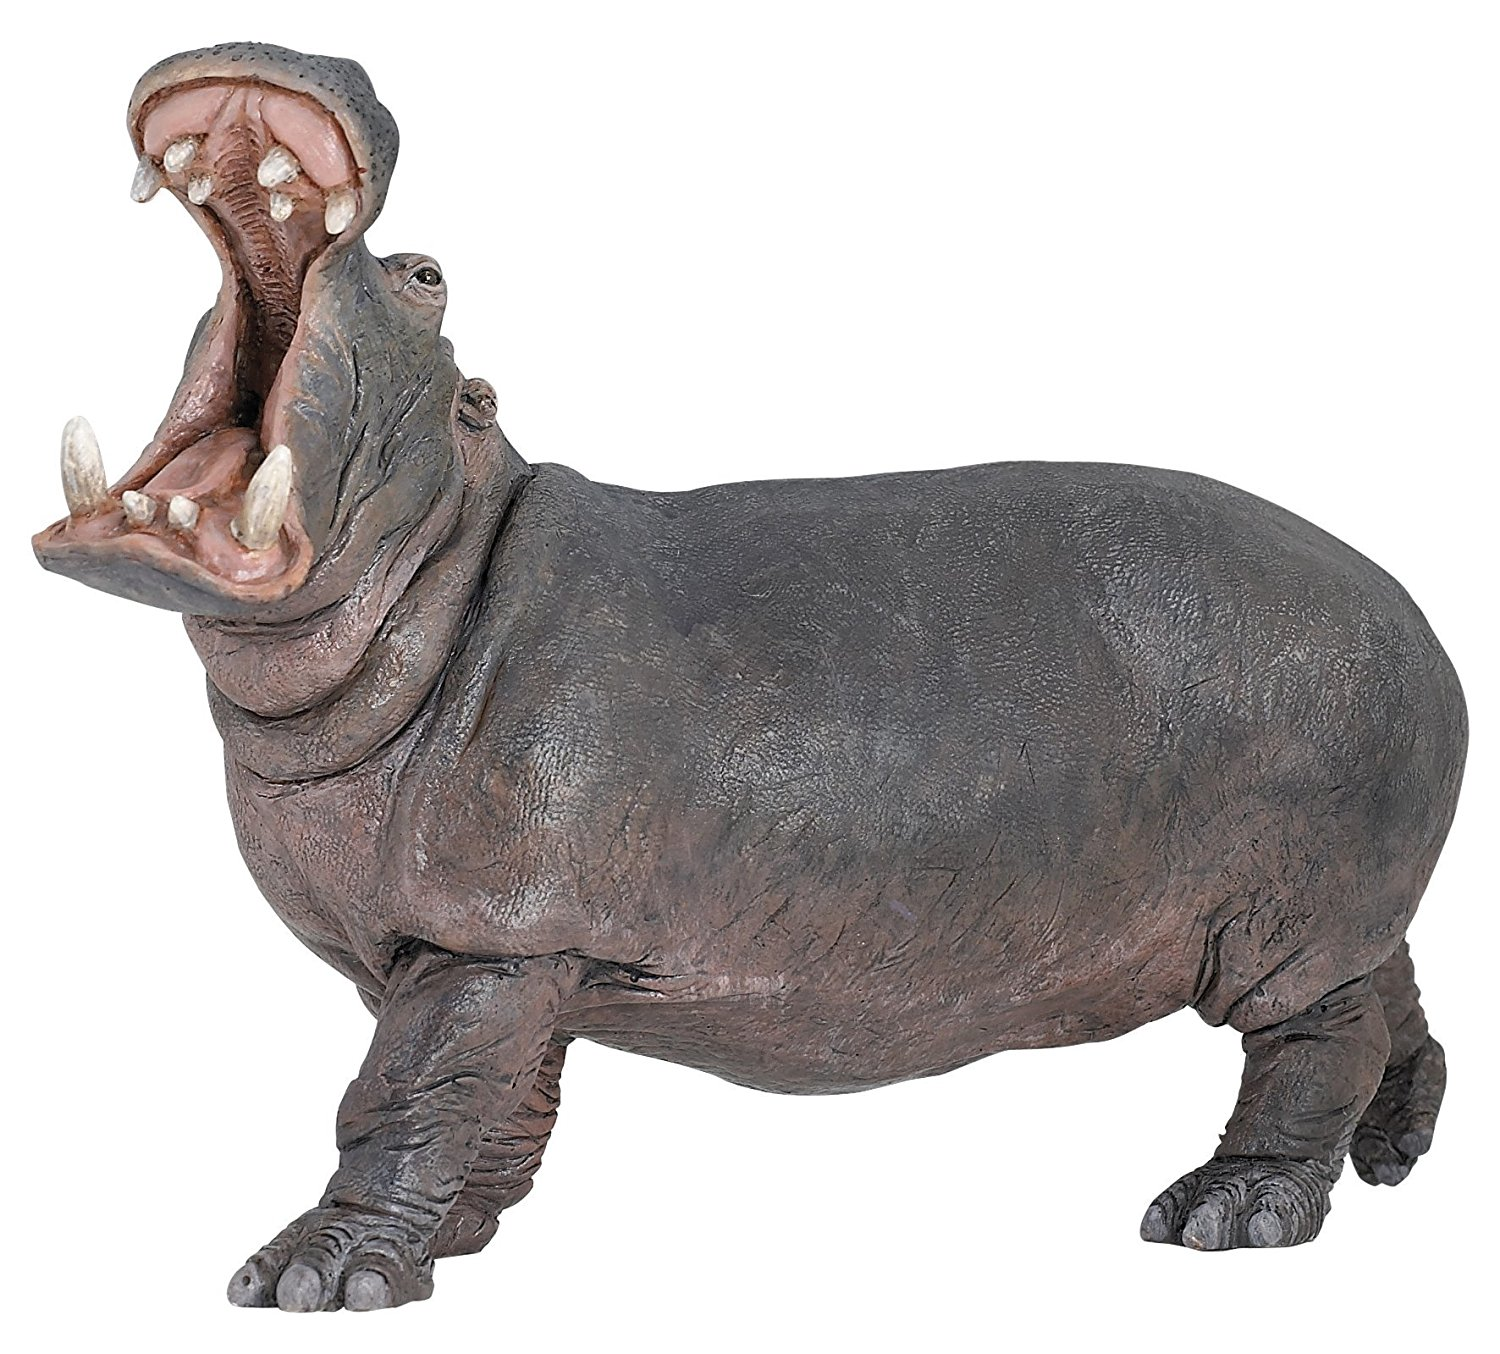Hippopotamus: (27, 46, 1471, 1312)
